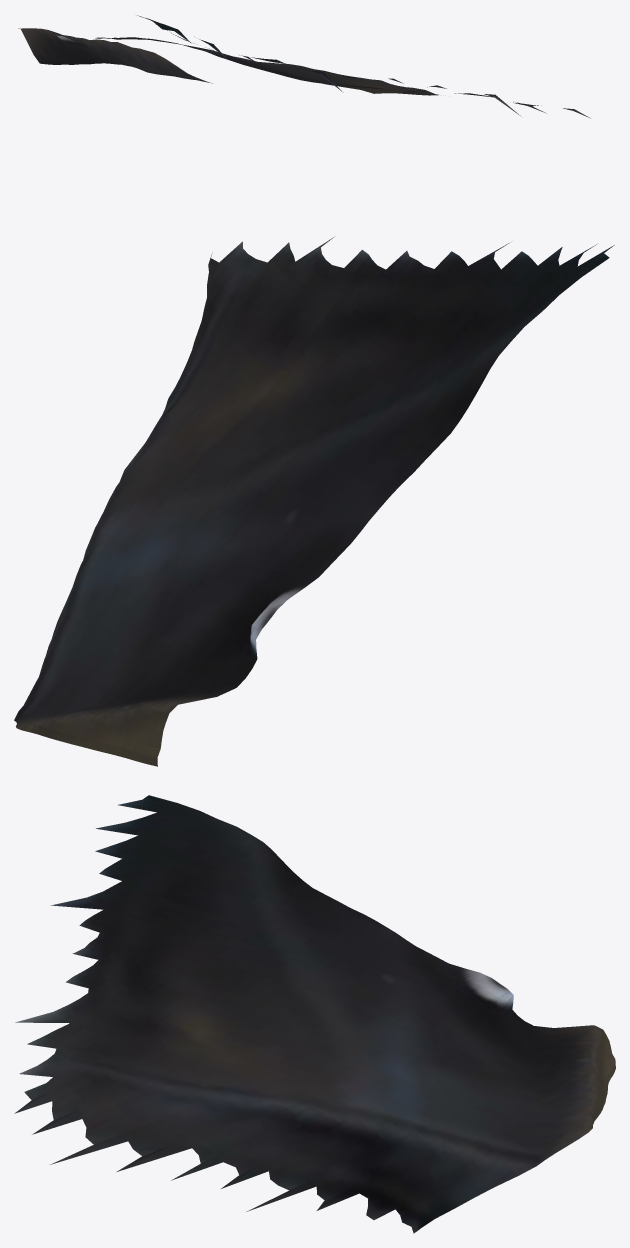
Rendered from observed-surface.glb.
The picture shows the model from 3 angles, top to bottom: view 1: azimuth 30°, elevation 25°; view 2: azimuth 150°, elevation 25°; view 3: azimuth 270°, elevation 25°; orthographic projection. The views are drawn at different scales.
Visible parts, largest first — view 1: geometry_0; view 2: geometry_0; view 3: geometry_0.
Boxes of the visible parts, x1,y1,x2,y2 form: geometry_0: (18,15,590,118); geometry_0: (14,236,614,766); geometry_0: (14,795,615,1233).
Size of the model in its own units: 0.5679 by 0.4648 by 0.8425.
1 material, 1 textured.
